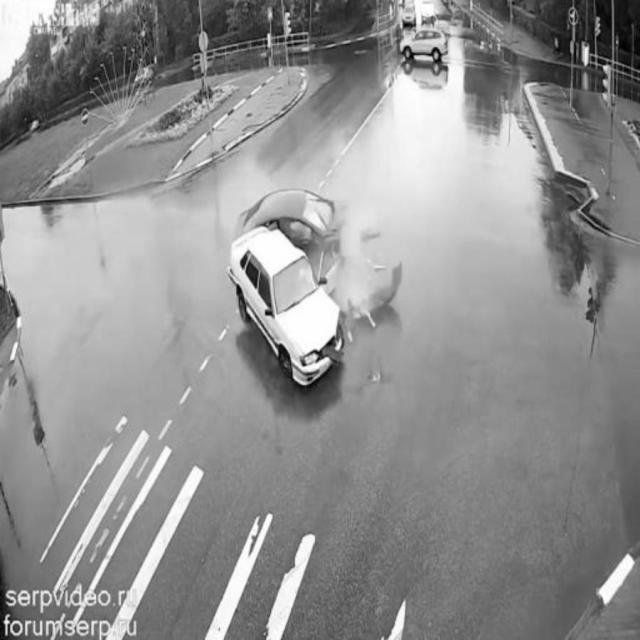accident: (224, 192, 409, 402)
vehicle: (398, 24, 450, 64), (401, 5, 415, 25), (422, 4, 434, 22)
